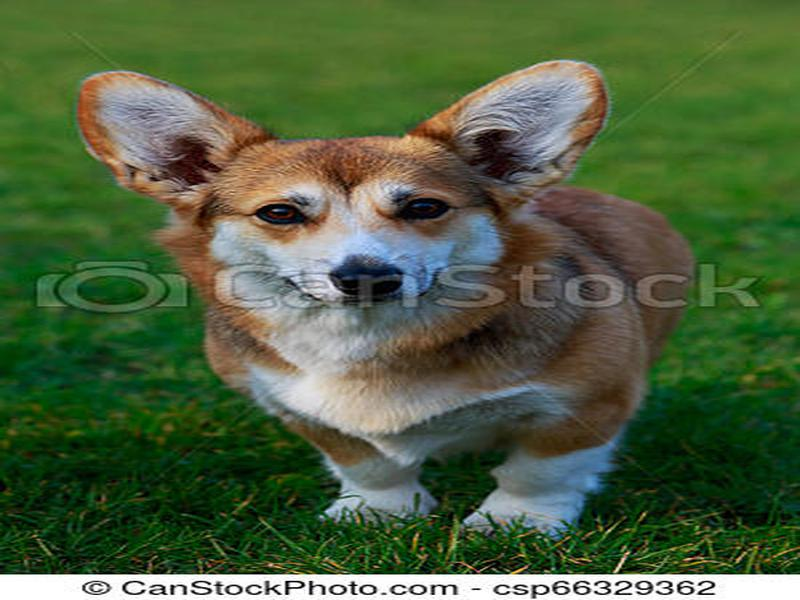corgi: (81, 61, 616, 308)
